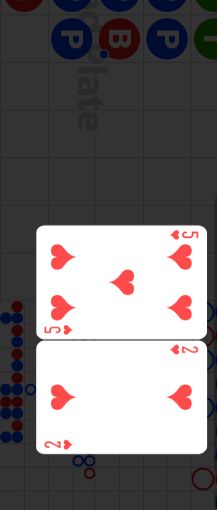2H: (44, 437, 75, 451)
5H: (168, 229, 200, 241)
